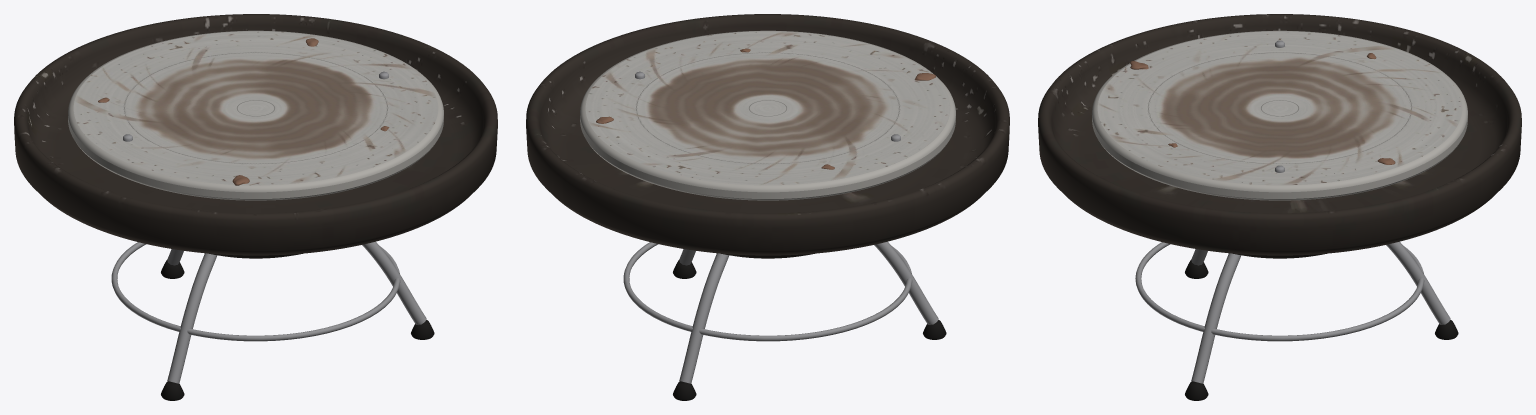
Rendered from wheel.glb.
3 renders of one model, left to right at view 1: azimuth 30°, elevation 25°; view 2: azimuth 150°, elevation 25°; view 3: azimuth 270°, elevation 25°, orthographic.
Visible parts, largest first — view 1: HeadDisc, Pan, Brace, Leg1, Leg2; view 2: HeadDisc, Pan, Brace, Leg0, Leg1; view 3: HeadDisc, Pan, Brace, Leg2, Leg0.
Part boxes in pixels (box(x1,y1,x2,y2)): HeadDisc: box(68, 30, 443, 200); Pan: box(14, 14, 497, 255); Brace: box(111, 242, 400, 341); Leg1: box(167, 253, 217, 383); Leg2: box(362, 241, 426, 324); HeadDisc: box(580, 30, 955, 200); Pan: box(526, 14, 1009, 255); Brace: box(623, 242, 912, 341); Leg0: box(679, 253, 729, 383); Leg1: box(874, 241, 938, 324); HeadDisc: box(1092, 30, 1467, 200); Pan: box(1038, 14, 1521, 255); Brace: box(1135, 242, 1424, 341); Leg2: box(1191, 253, 1241, 383); Leg0: box(1386, 241, 1450, 324).
Size of the model in its own units: 3.86 by 2.03 by 3.86.
Materials: 8 (2 with a texture image).
